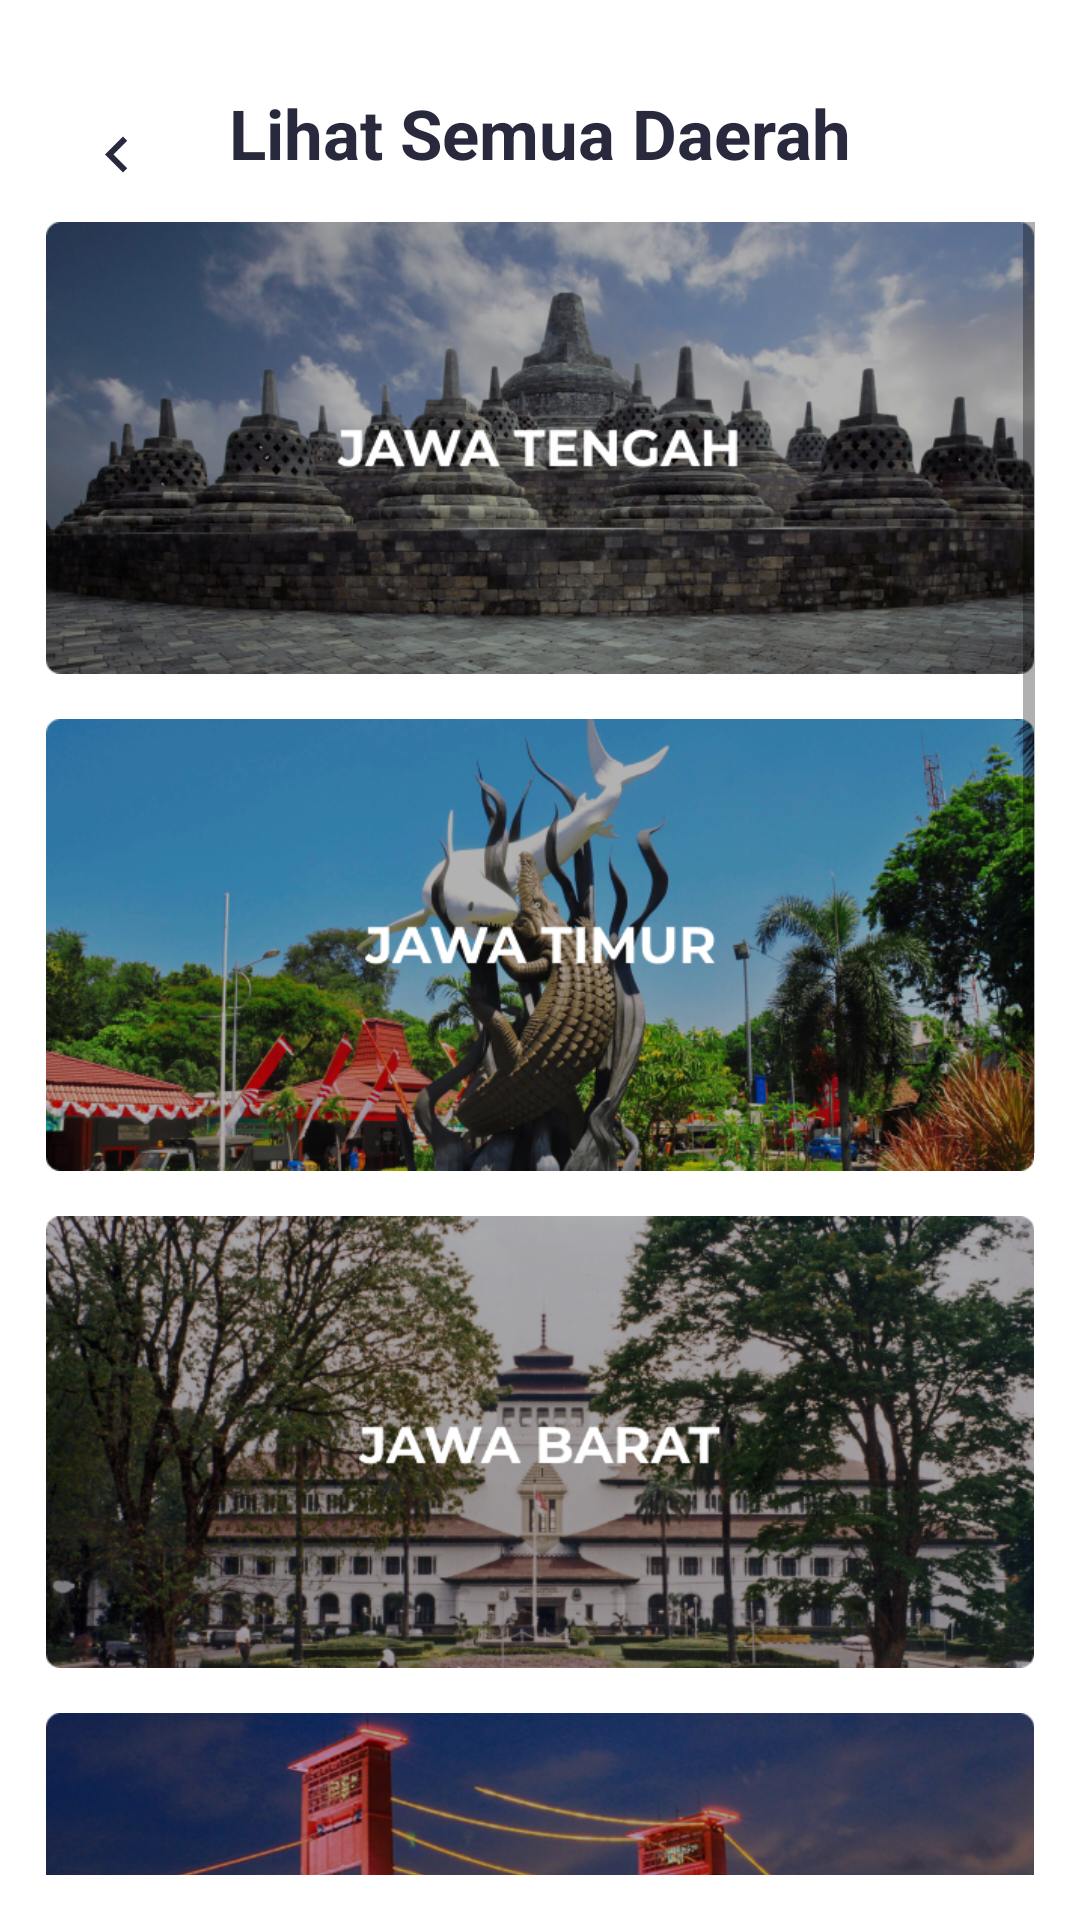

Where to tap for icons on this 1080w x 1920h app screen, as point (x, y):
keyboard arrow left: point (116, 154)
